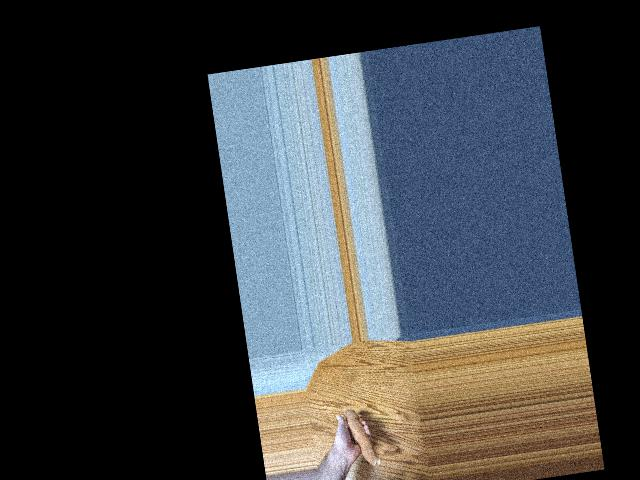sweet_potato: (343, 405, 381, 471)
